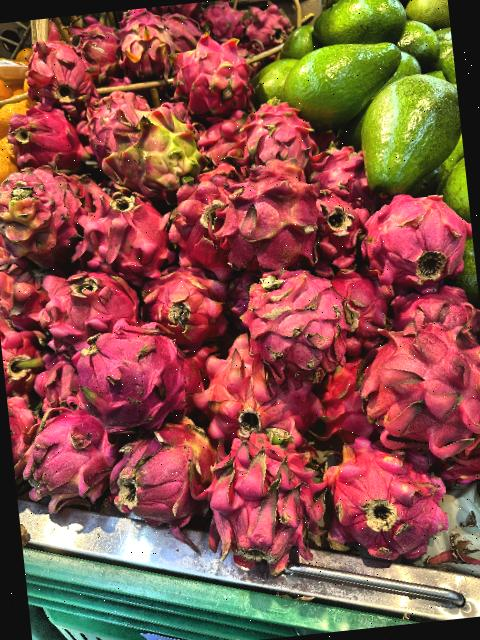buah-naga-belum-matang: (110, 414, 216, 540), (214, 161, 324, 272), (92, 102, 210, 199), (0, 168, 82, 269), (112, 17, 177, 82)
buah-naga-matang: (204, 424, 334, 580), (316, 428, 450, 568), (363, 311, 480, 449), (65, 318, 191, 434), (234, 262, 350, 379), (191, 338, 308, 445), (350, 186, 466, 292), (72, 186, 177, 281), (15, 403, 120, 498), (29, 261, 146, 343), (134, 262, 235, 346), (0, 99, 99, 182), (170, 32, 258, 115), (22, 38, 104, 124), (237, 101, 306, 172), (74, 21, 127, 74)
